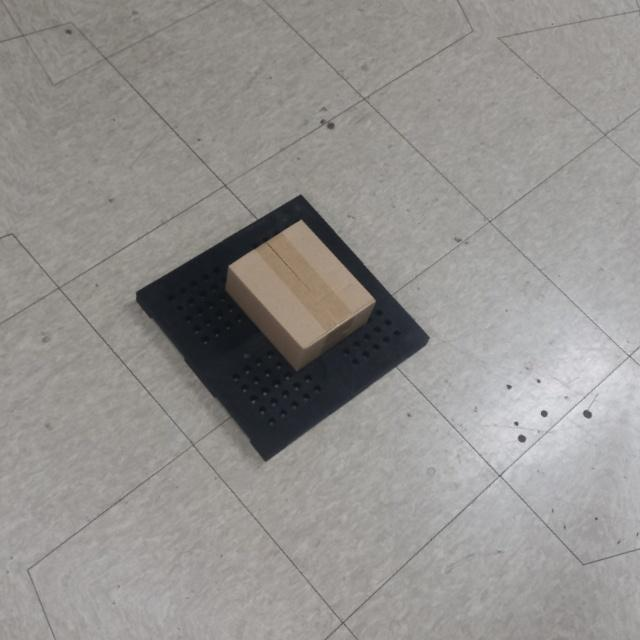box: (221, 215, 381, 372)
pallet: (133, 182, 432, 463)
